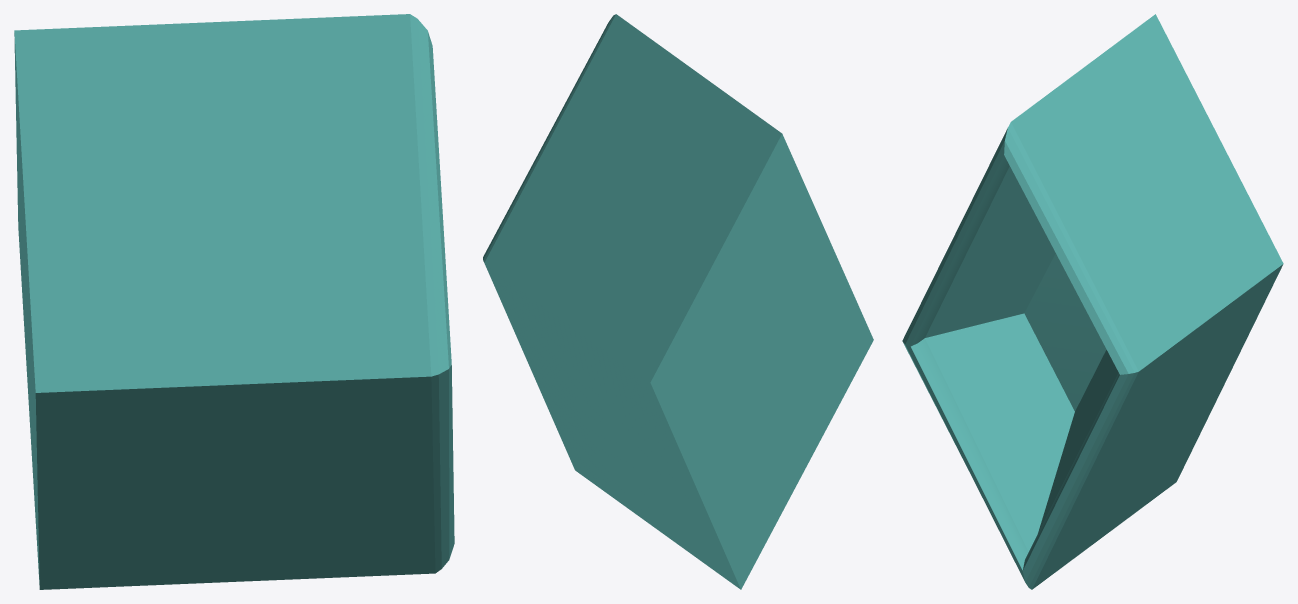
The model's file is BR5_8shapes_Kite_Classic_Metal.001 2.glb.
3 views of the same model, side by side, from view 1: azimuth 30°, elevation 25°; view 2: azimuth 150°, elevation 25°; view 3: azimuth 270°, elevation 25° (orthographic). The views are drawn at different scales.
Parts seen in each view (by area): view 1: BR5_8shapes_Kite_Classic_Metal.001; view 2: BR5_8shapes_Kite_Classic_Metal.001; view 3: BR5_8shapes_Kite_Classic_Metal.001.
Boxes of the visible parts, bbox=[...] form: BR5_8shapes_Kite_Classic_Metal.001: bbox=[14, 14, 454, 589]; BR5_8shapes_Kite_Classic_Metal.001: bbox=[483, 14, 873, 589]; BR5_8shapes_Kite_Classic_Metal.001: bbox=[902, 14, 1283, 589].
Bounding box in the file's own units: 0.4928 × 0.6227 × 0.4666.
